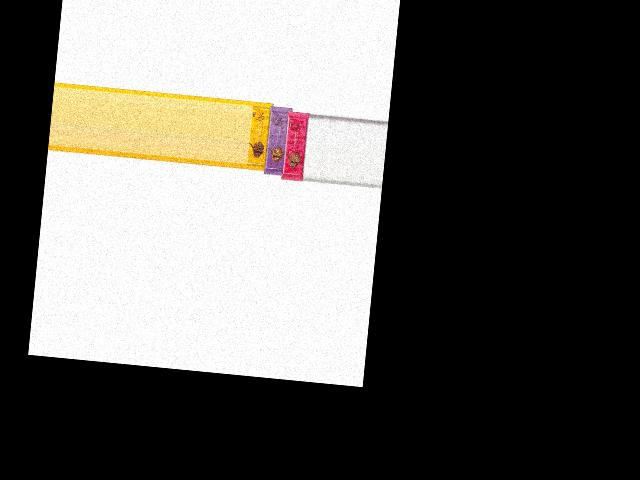chocolate: (281, 108, 310, 185)
